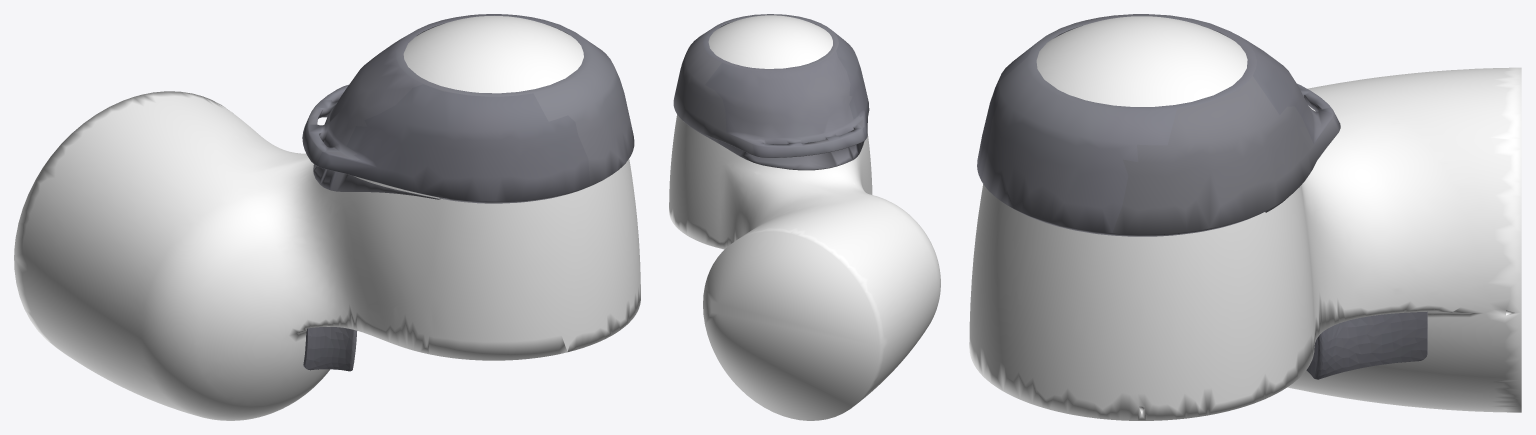
The picture shows the model from 3 angles, left to right: view 1: azimuth 30°, elevation 25°; view 2: azimuth 150°, elevation 25°; view 3: azimuth 270°, elevation 25°; orthographic projection. The views are drawn at different scales.
Visible parts, largest first — view 1: node3_Part__Feature003.003, node0_001_Part__Feature.006, node2_Part__Feature002.004; view 2: node3_Part__Feature003.003, node0_001_Part__Feature.006; view 3: node3_Part__Feature003.003, node0_001_Part__Feature.006, node1_Part__Feature001.004.
Part boxes in pixels (box(x1,y1,x2,y2)): node3_Part__Feature003.003: box(14, 16, 640, 420); node0_001_Part__Feature.006: box(302, 14, 634, 203); node2_Part__Feature002.004: box(303, 327, 356, 371); node3_Part__Feature003.003: box(669, 15, 940, 420); node0_001_Part__Feature.006: box(673, 14, 869, 170); node3_Part__Feature003.003: box(969, 16, 1521, 420); node0_001_Part__Feature.006: box(977, 14, 1340, 236); node1_Part__Feature001.004: box(1306, 311, 1427, 379).
Size of the model in its own units: 0.1925 by 0.1661 by 0.176.
4 materials, 4 textured.
